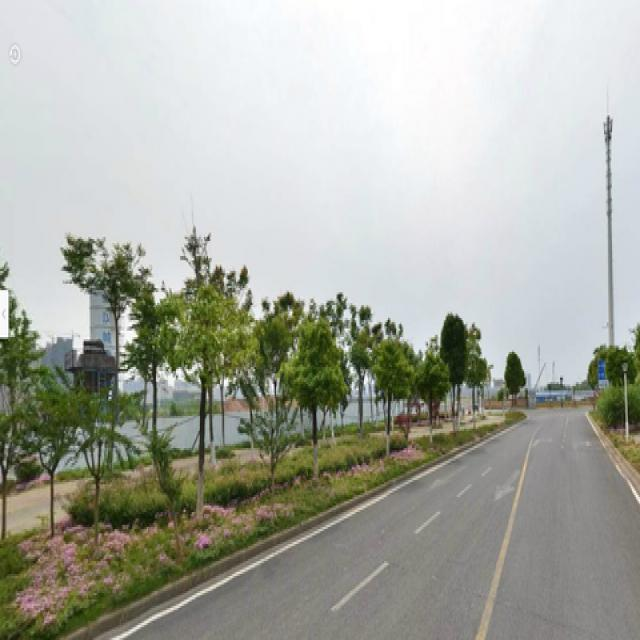gink: (299, 330, 336, 476), (374, 346, 402, 474)
